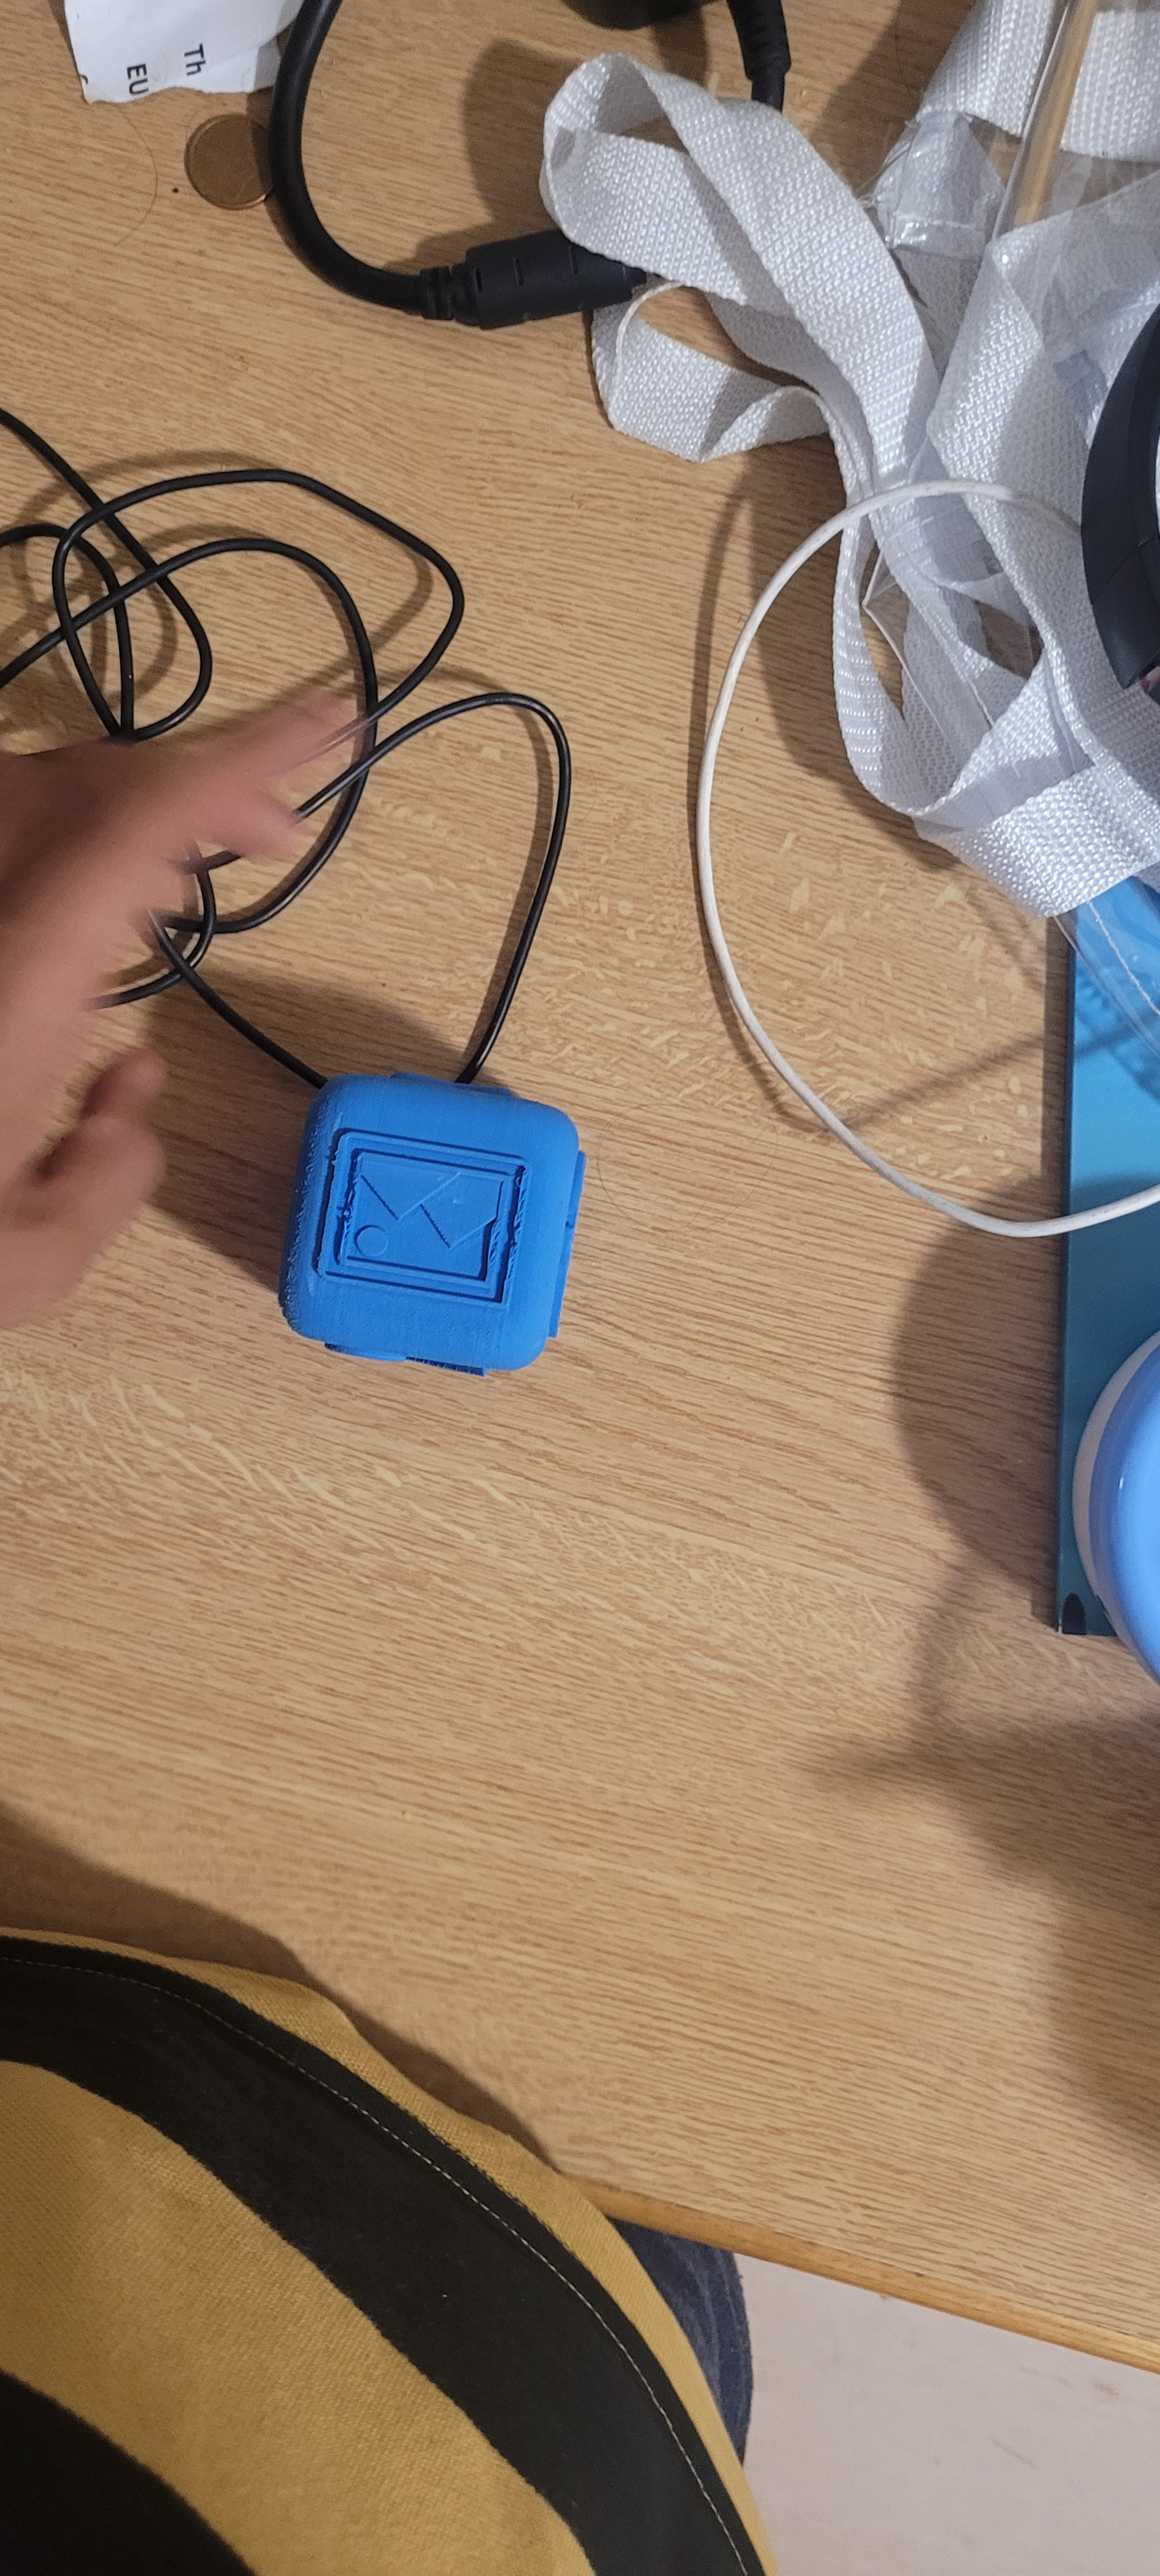Story: (294, 1079, 529, 1314)
